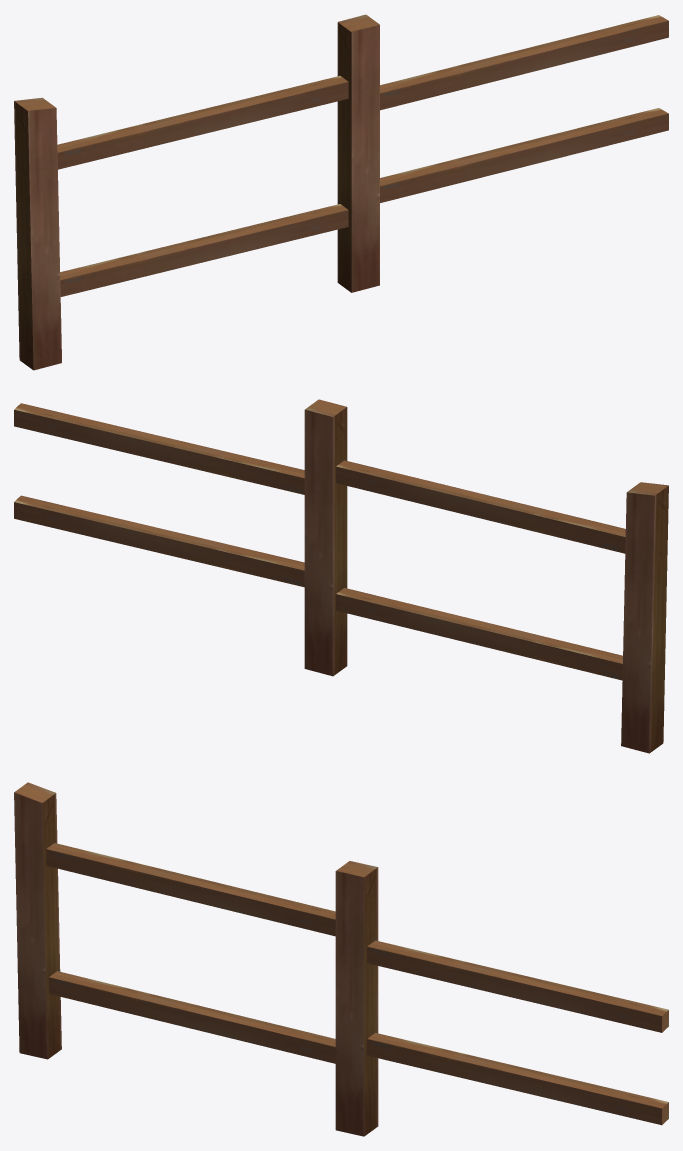
File: Scene_zalan_02.FBX
The picture shows the model from 3 angles, top to bottom: view 1: azimuth 30°, elevation 25°; view 2: azimuth 150°, elevation 25°; view 3: azimuth 330°, elevation 25°; orthographic projection.
Parts seen in each view (by area): view 1: Scene_zalan_02; view 2: Scene_zalan_02; view 3: Scene_zalan_02.
Part boxes in pixels (x1,y1,x2,y2): Scene_zalan_02: (14, 14, 668, 370); Scene_zalan_02: (14, 399, 668, 753); Scene_zalan_02: (14, 782, 668, 1136).
Size of the model in its own units: 250 by 96.49 by 9.41.
